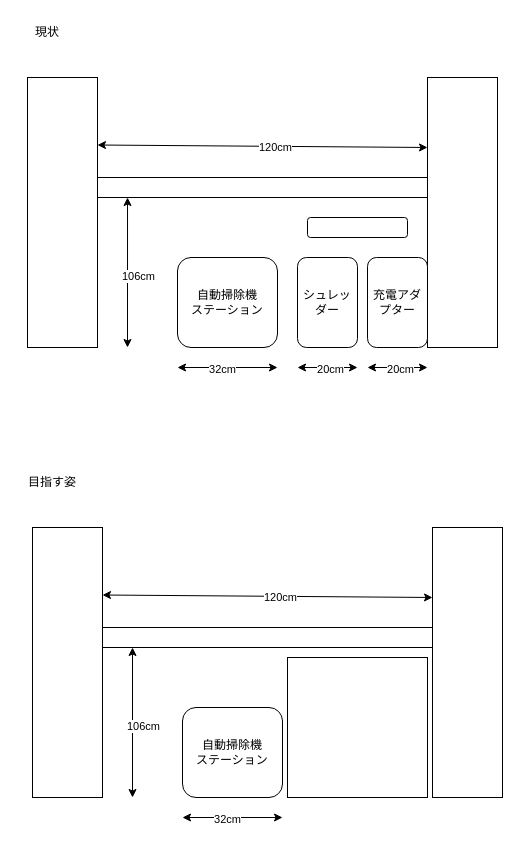
Image size: 520x844. Some labels were removed from this diagram. The shapes that lost their labels are listed below. From the top down, each one's centre as x and y in pixels, then its label:
At (357,227): "電源タップ".
At (357,727): "作りたい棚".
